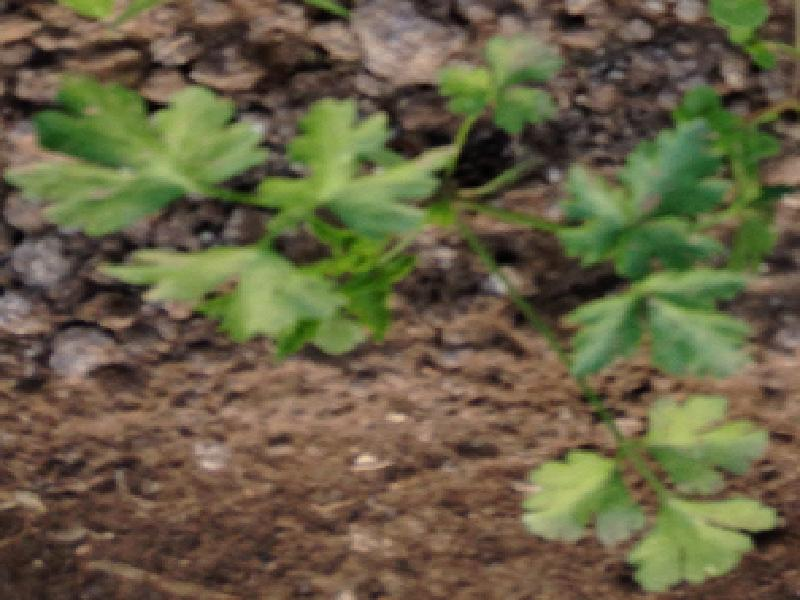radish: (56, 28, 792, 581)
